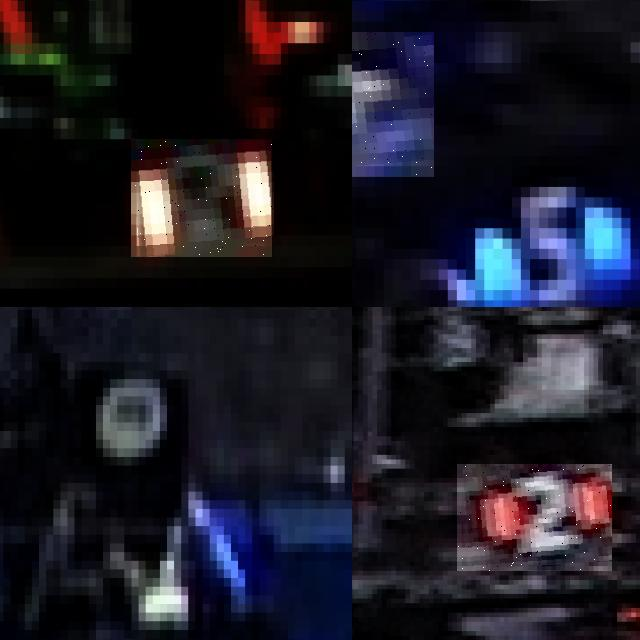B5: (424, 161, 640, 307), (352, 32, 434, 176)
R2: (457, 464, 612, 571)
Rs: (132, 139, 274, 257)
